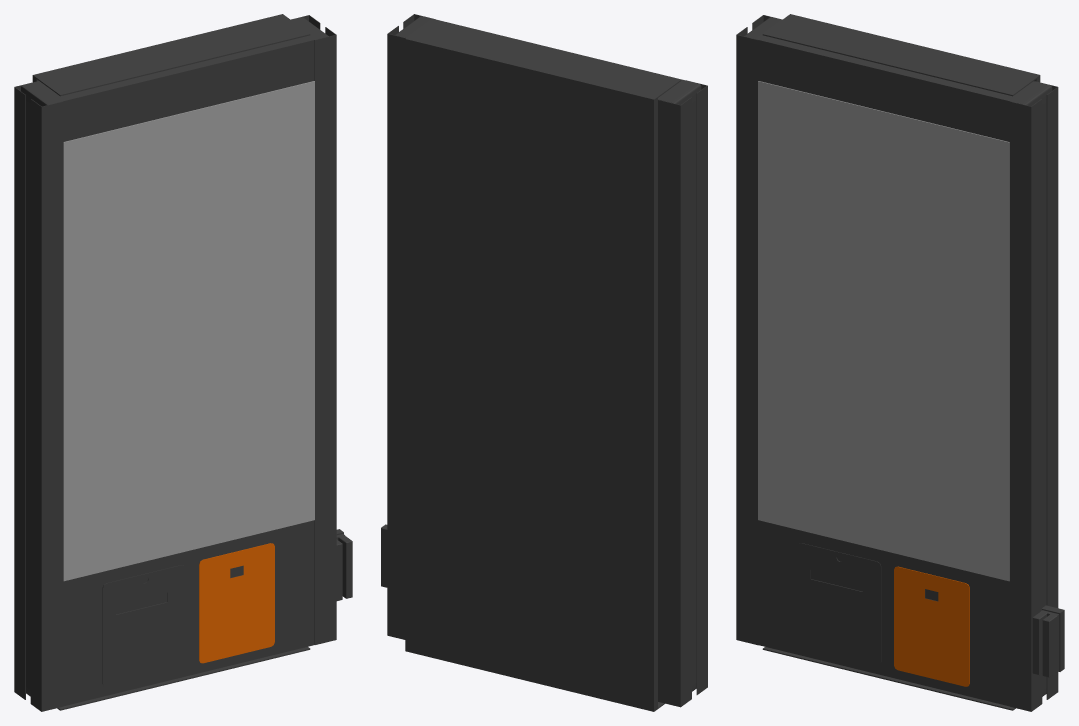
Rendered from UTC-723.fbx.
3 views of the same model, side by side, from view 1: azimuth 30°, elevation 25°; view 2: azimuth 150°, elevation 25°; view 3: azimuth 330°, elevation 25° (orthographic).
Visible parts, largest first — view 1: A, B; view 2: B, A; view 3: A, B.
Boxes of the visible parts, x1,y1,x2,y2 form: A: (14, 15, 352, 711); B: (32, 14, 310, 710); B: (405, 19, 681, 711); A: (381, 14, 707, 707); A: (736, 15, 1064, 711); B: (762, 14, 1040, 710).
Bounding box in the file's own units: 56.61 × 106 × 9.88.
